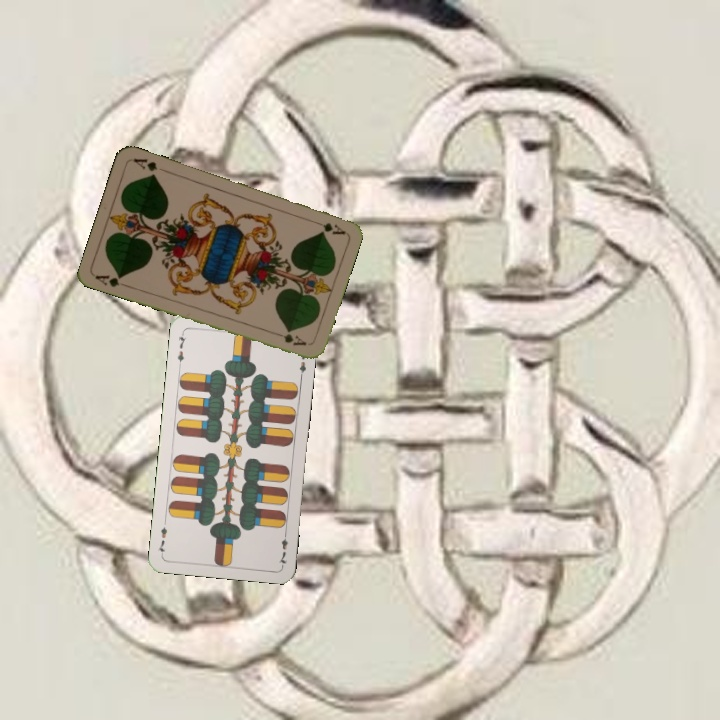E7: (275, 527, 291, 568), (173, 328, 188, 369)
GA: (91, 270, 131, 290), (309, 216, 347, 237)
